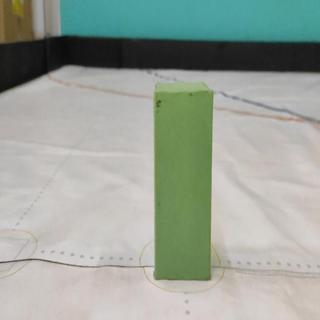greenbox: (155, 84, 211, 280)
